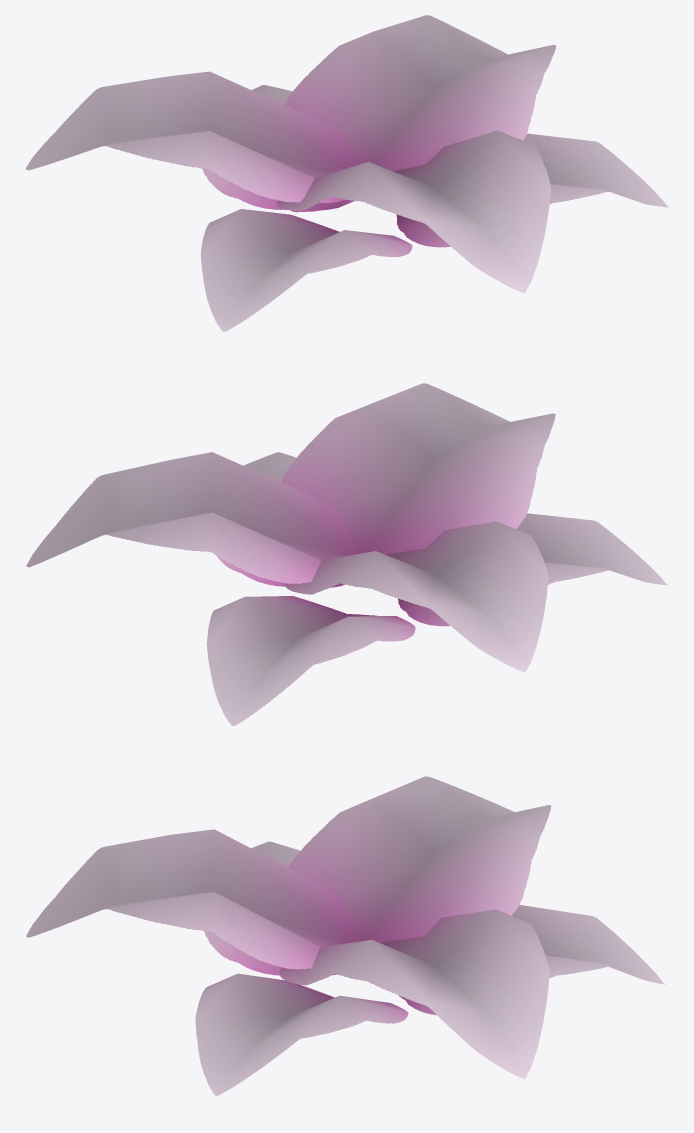
Rendered from Plant_1b.fbx.
3 views of the same model, one above another, from view 1: azimuth 30°, elevation 25°; view 2: azimuth 150°, elevation 25°; view 3: azimuth 270°, elevation 25° (orthographic).
Visible parts, largest first — view 1: Plant_1b; view 2: Plant_1b; view 3: Plant_1b.
Part boxes in pixels (x1,y1,x2,y2): Plant_1b: [25, 15, 669, 331]; Plant_1b: [26, 383, 668, 725]; Plant_1b: [26, 776, 665, 1095].
Size of the model in its own units: 23.48 by 4.89 by 21.68.
